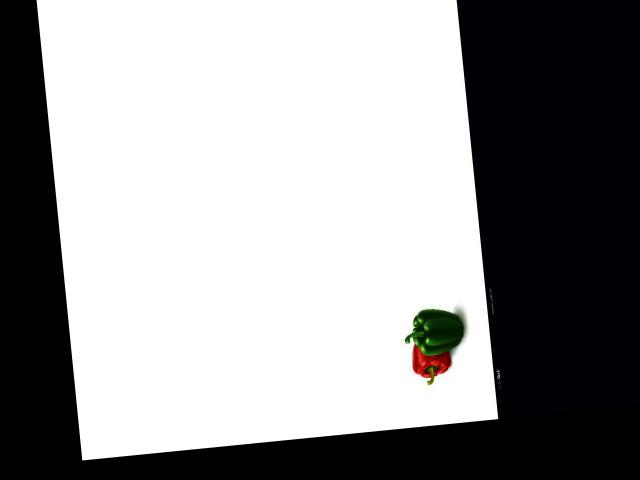bell_pepper: (405, 339, 451, 386)
